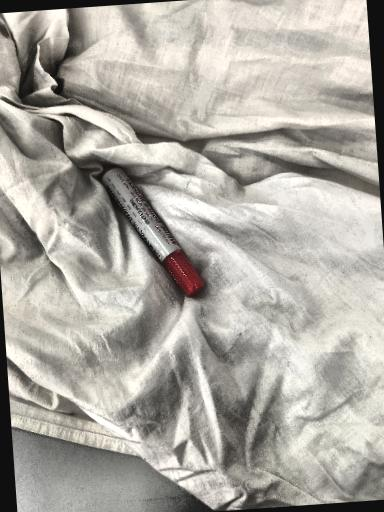marcador rojo: (101, 165, 204, 296)
